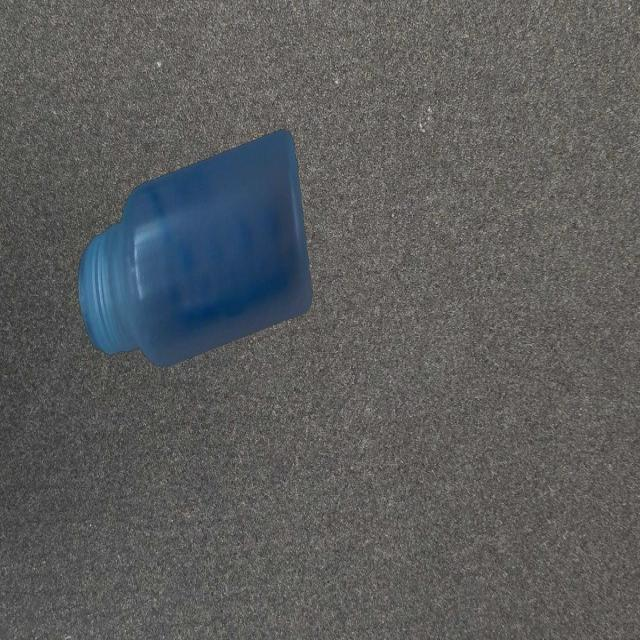bottle: (76, 124, 316, 362)
